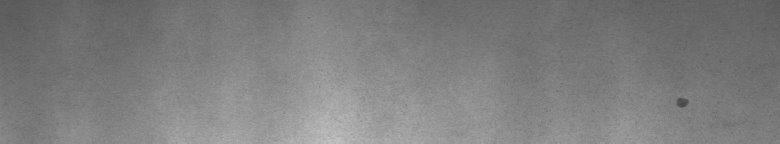fi: (672, 91, 692, 116)
